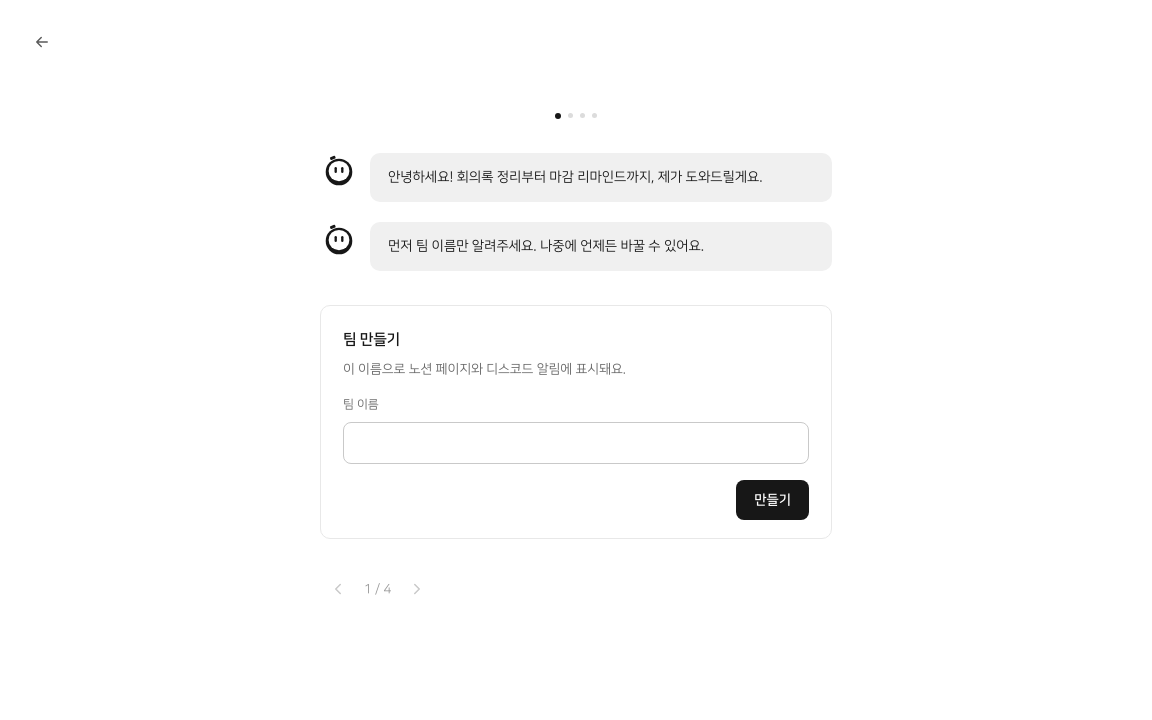
Test: 나가기 (U3-7) › 이름을 적다 나가면 공통 이탈 확인을 거친다
Type "적는 중" into the field labelled "팀 이름".
click(576, 443); type("적는 중")  # box left=343, top=422, right=809, bottom=464
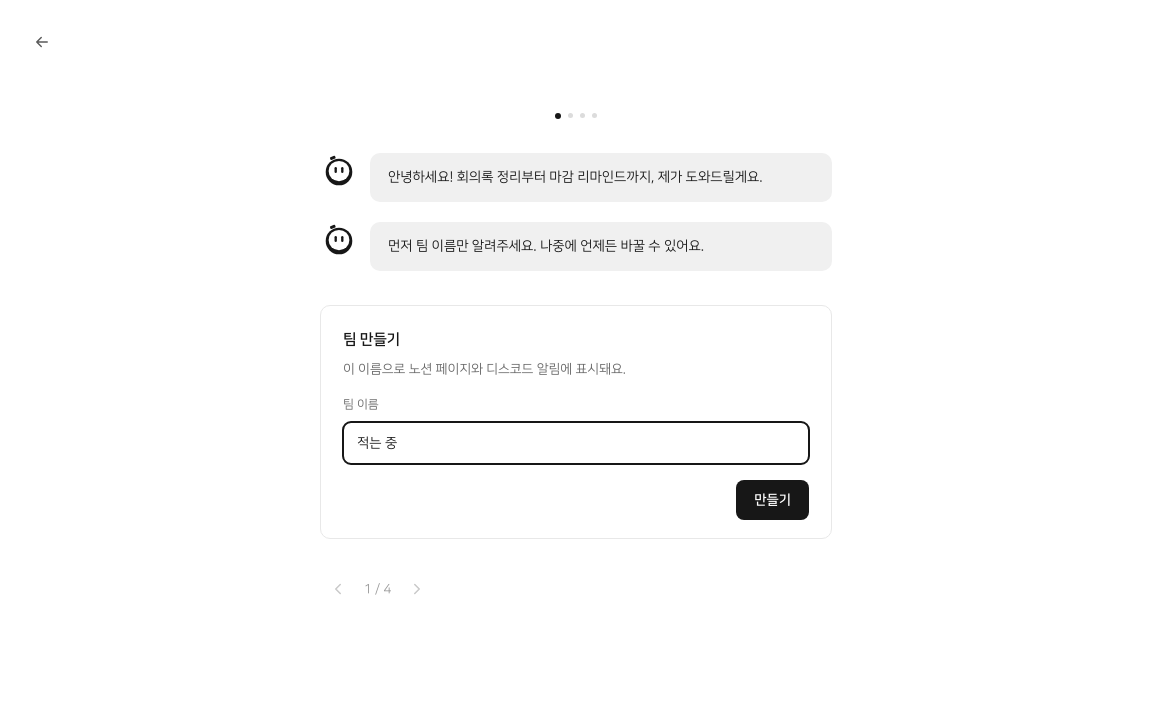
Click the link named "온보딩 나가기".
click(42, 42)  # box left=33, top=33, right=51, bottom=51
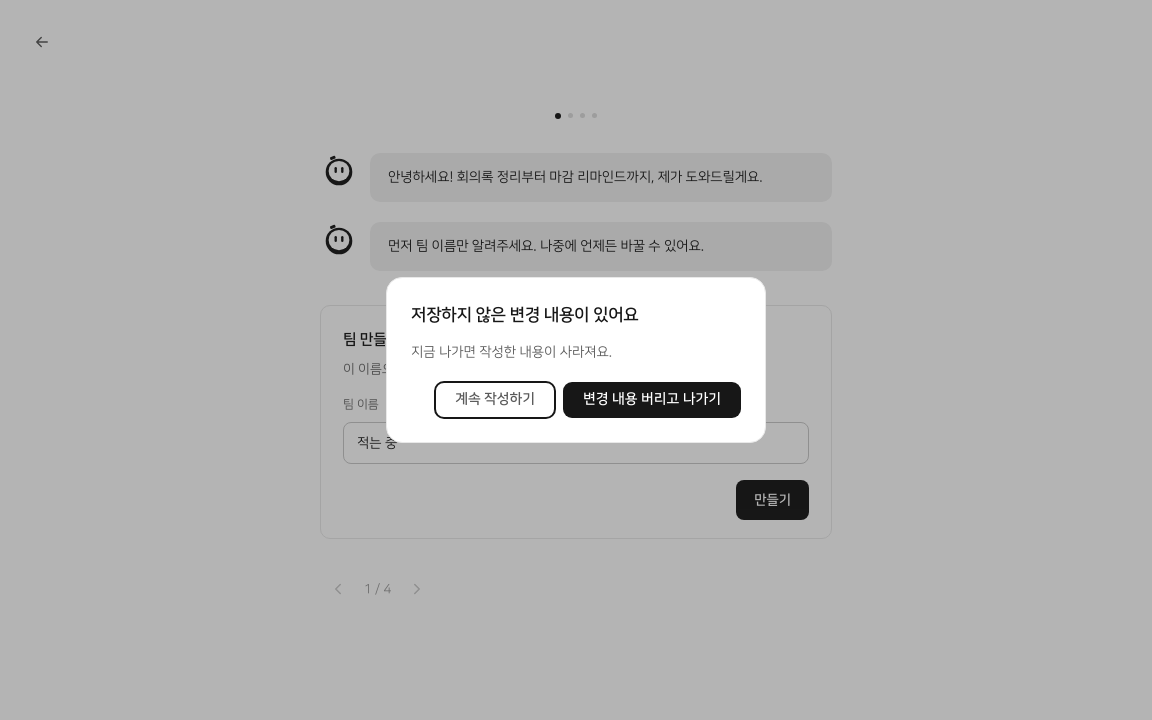
expect the dialog "저장하지 않은 변경 내용이 있어요" is shown: met, box left=386, top=277, right=766, bottom=443
Click the button "계속 작성하기".
click(495, 400)  # box left=435, top=382, right=555, bottom=418
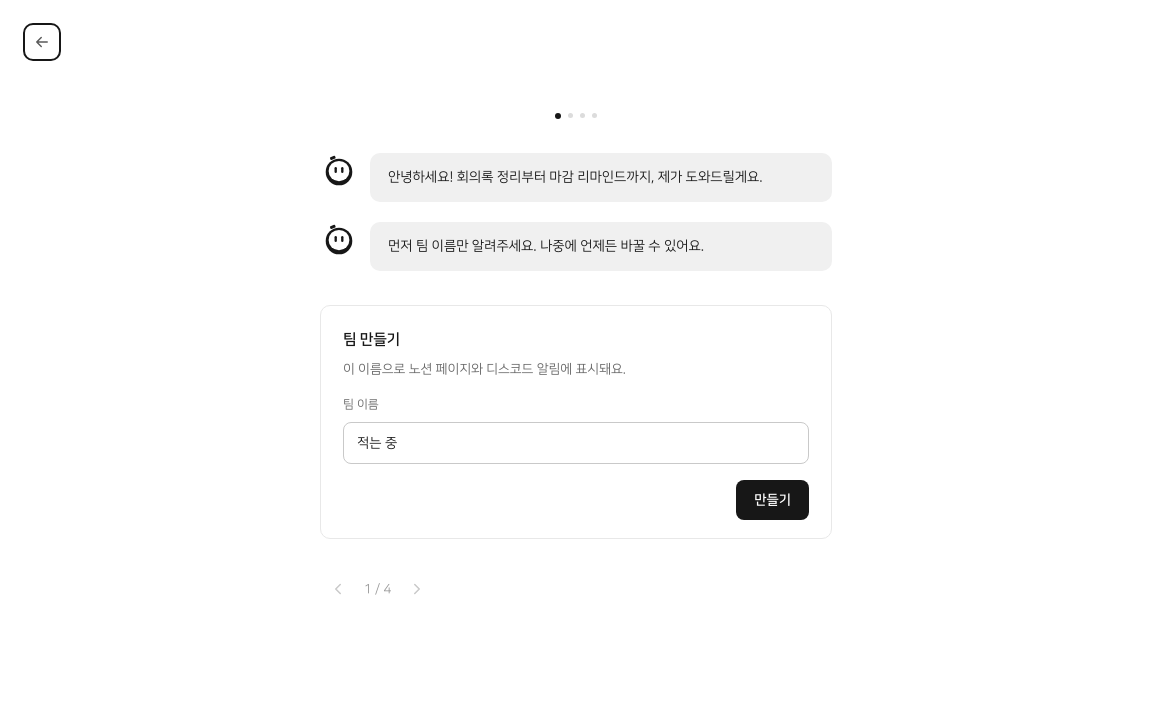
expect the dialog is gone: met
